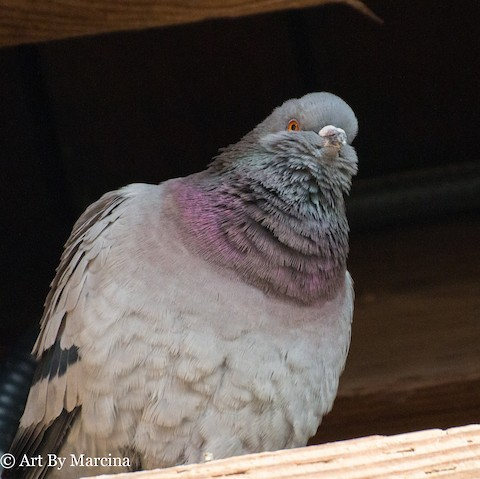pigeon: (5, 87, 365, 469)
